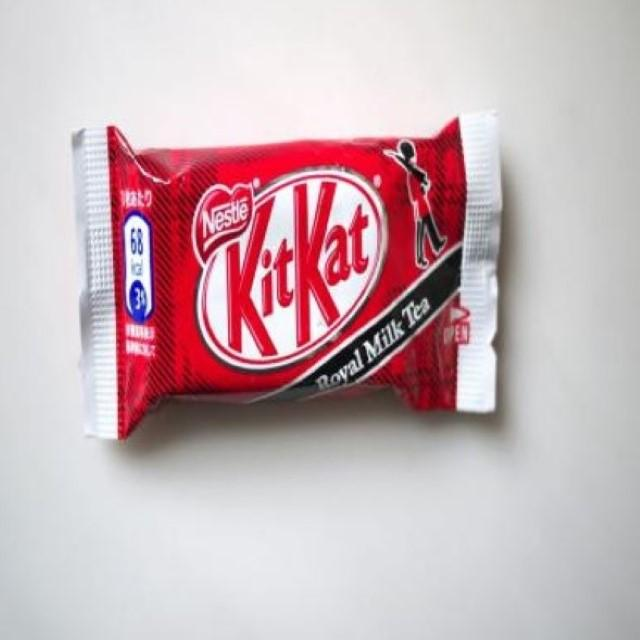kitkat_chocolate: (79, 118, 504, 425)
